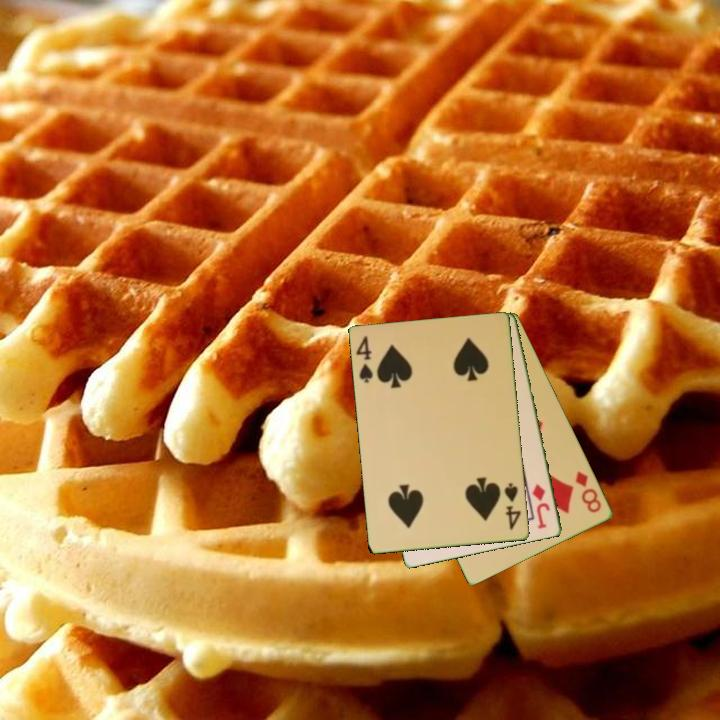4s: (501, 479, 524, 533), (353, 332, 376, 386)
8d: (572, 468, 605, 516)
Jd: (529, 481, 553, 532)
